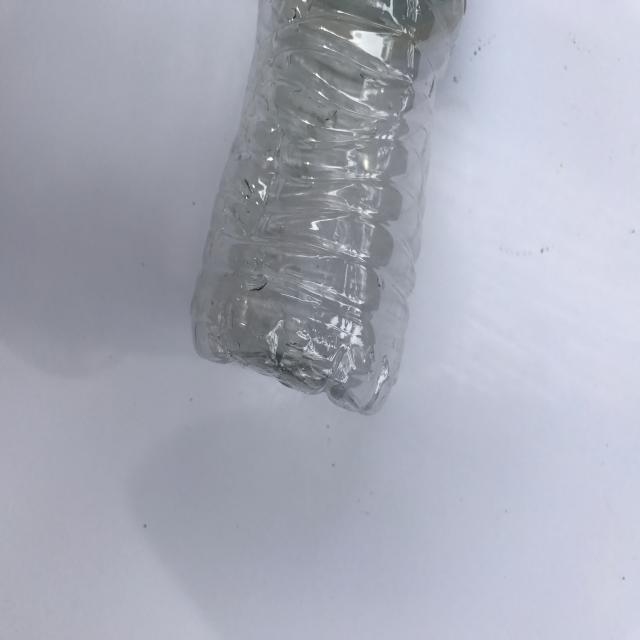plastic: (189, 0, 466, 416)
